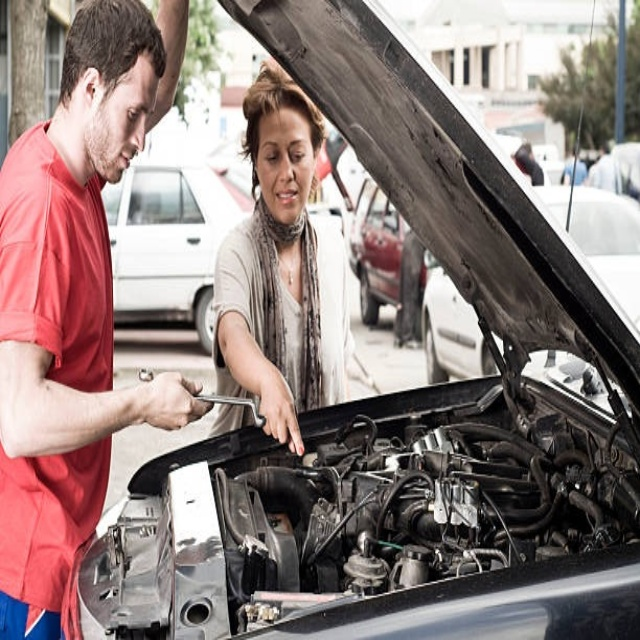Sin_gafas: (258, 134, 307, 170), (116, 88, 155, 132)
Sin_guantes: (140, 369, 218, 431), (255, 369, 308, 455)
Sin_mascara: (268, 183, 303, 219), (107, 148, 137, 181)
